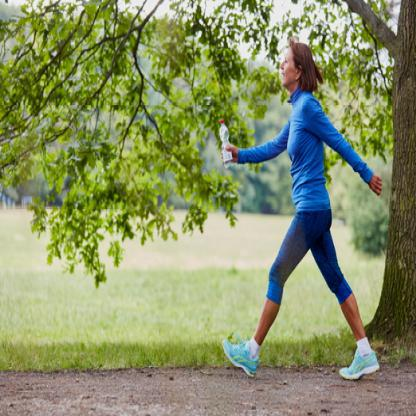person: (228, 40, 372, 380)
